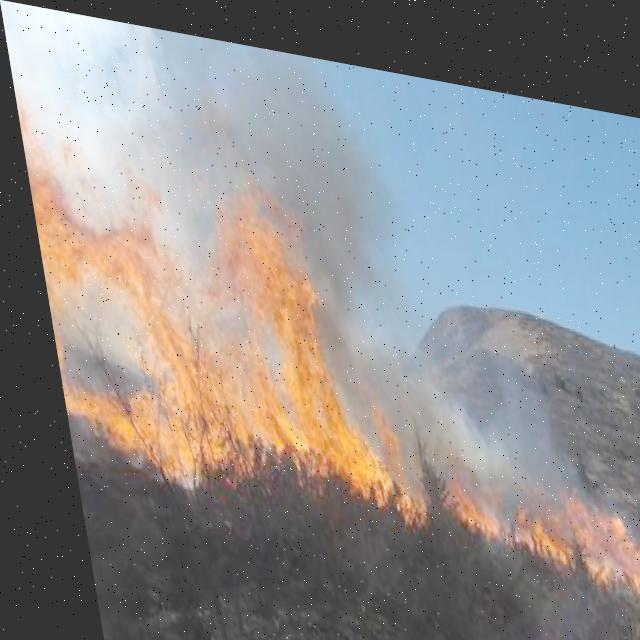Fire: (10, 82, 639, 579)
